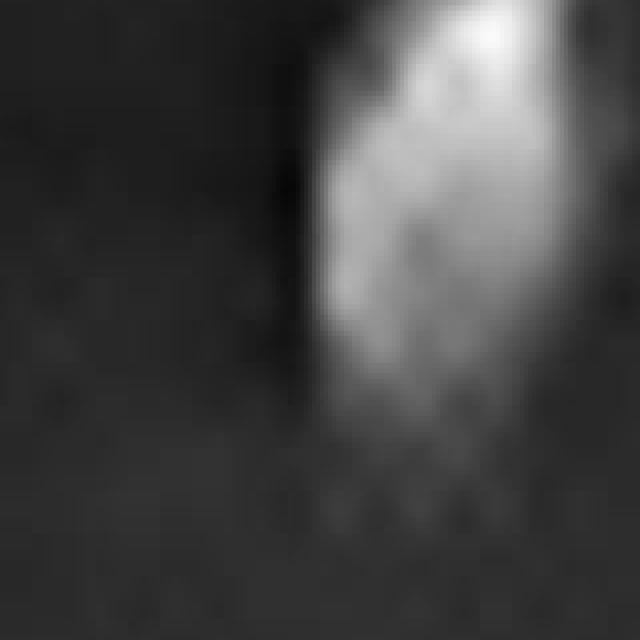person: (309, 1, 629, 497)
